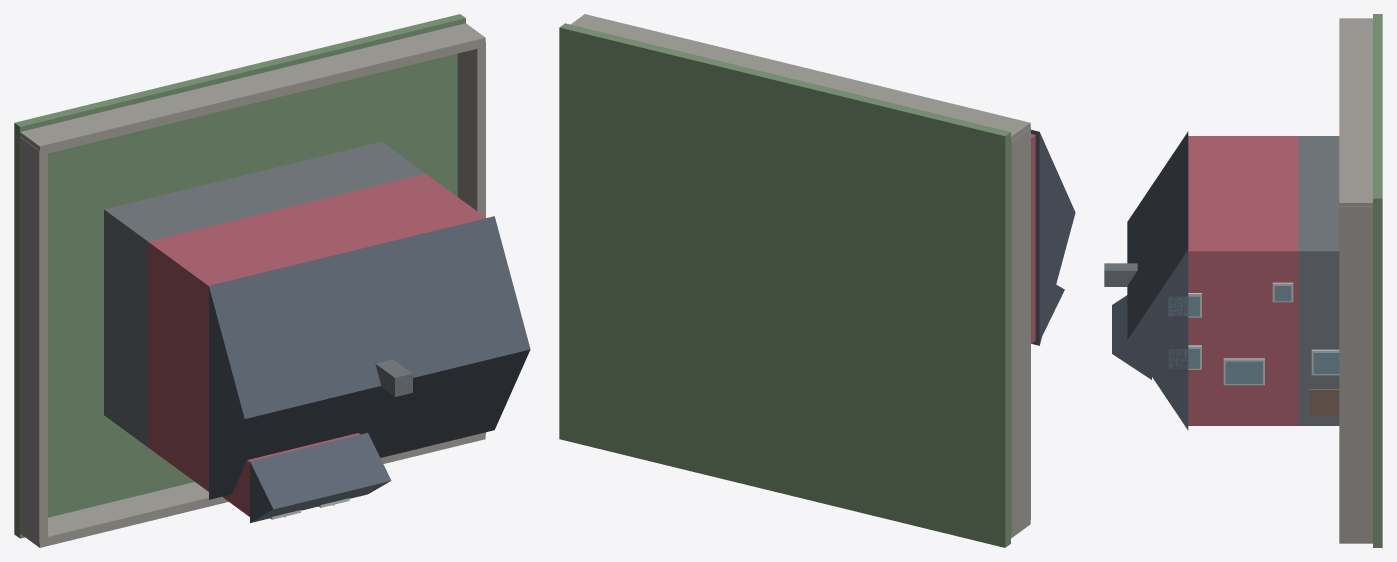
Rendered from grandmas_house_reference.glb.
3 views of the same model, side by side, from view 1: azimuth 30°, elevation 25°; view 2: azimuth 150°, elevation 25°; view 3: azimuth 270°, elevation 25° (orthographic). The views are drawn at different scales.
Parts seen in each view (by area): view 1: 03_main_gabled_roof, grass_yard, 02_red_upper_storeys, 01_ground_floor_slate, concrete_wall_back, concrete_wall_left, 05_dormer_gable, concrete_wall_front, concrete_wall_right, 06_chimney, 04_left_front_dormer; view 2: grass_yard, concrete_wall_left, concrete_wall_back, 03_main_gabled_roof, 02_red_upper_storeys; view 3: 02_red_upper_storeys, 03_main_gabled_roof, concrete_wall_right, 01_ground_floor_slate, concrete_wall_back, grass_yard, 05_dormer_gable, side_glass_upper, side_entrance, 06_chimney, side_glass_gable2, side_glass_ground (+2 smaller).
Boxes of the visible parts, x1,y1,x2,y2 form: 03_main_gabled_roof: (209, 216, 530, 499); grass_yard: (14, 14, 465, 538); 02_red_upper_storeys: (148, 174, 485, 491); 01_ground_floor_slate: (104, 141, 425, 446); concrete_wall_back: (20, 23, 485, 154); concrete_wall_left: (19, 137, 47, 543); 05_dormer_gable: (250, 432, 391, 522); concrete_wall_front: (20, 432, 485, 547); concrete_wall_right: (457, 42, 485, 436); 06_chimney: (375, 359, 412, 396); 04_left_front_dormer: (223, 433, 360, 516); grass_yard: (559, 23, 1010, 547); concrete_wall_left: (1011, 127, 1030, 534); concrete_wall_back: (570, 14, 1030, 141); 03_main_gabled_roof: (1031, 129, 1075, 345); 02_red_upper_storeys: (1031, 134, 1035, 343); 02_red_upper_storeys: (1188, 136, 1298, 425); 03_main_gabled_roof: (1127, 131, 1188, 430); concrete_wall_right: (1339, 206, 1372, 539); 01_ground_floor_slate: (1298, 136, 1339, 425); concrete_wall_back: (1339, 18, 1372, 206); grass_yard: (1373, 14, 1382, 547); 05_dormer_gable: (1112, 295, 1151, 379); side_glass_upper: (1225, 361, 1262, 383); side_entrance: (1309, 389, 1339, 415); 06_chimney: (1104, 263, 1137, 286); side_glass_gable2: (1168, 296, 1199, 316); side_glass_ground: (1313, 352, 1339, 373).
Bounding box in the file's own units: 17.03 × 15 × 10.83.
